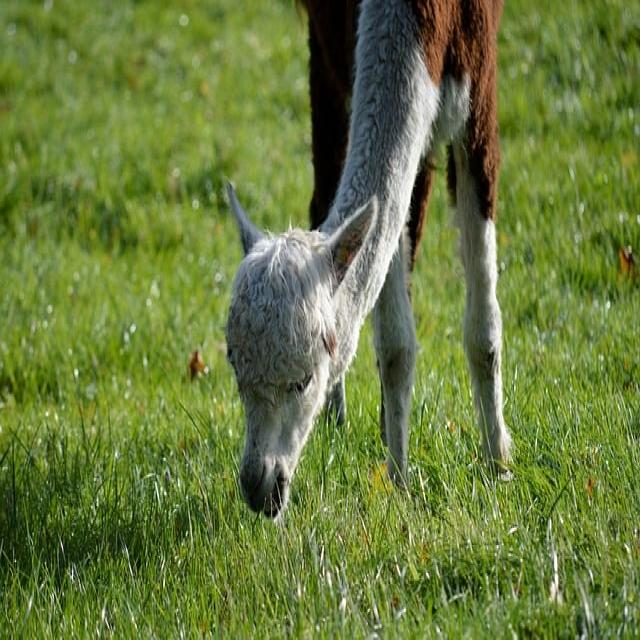Herbivorous: (223, 0, 508, 522)
